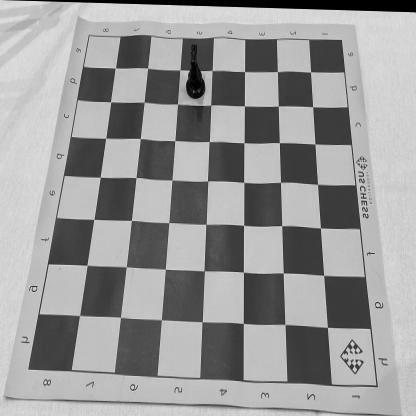black-knight: (185, 42, 206, 98)
